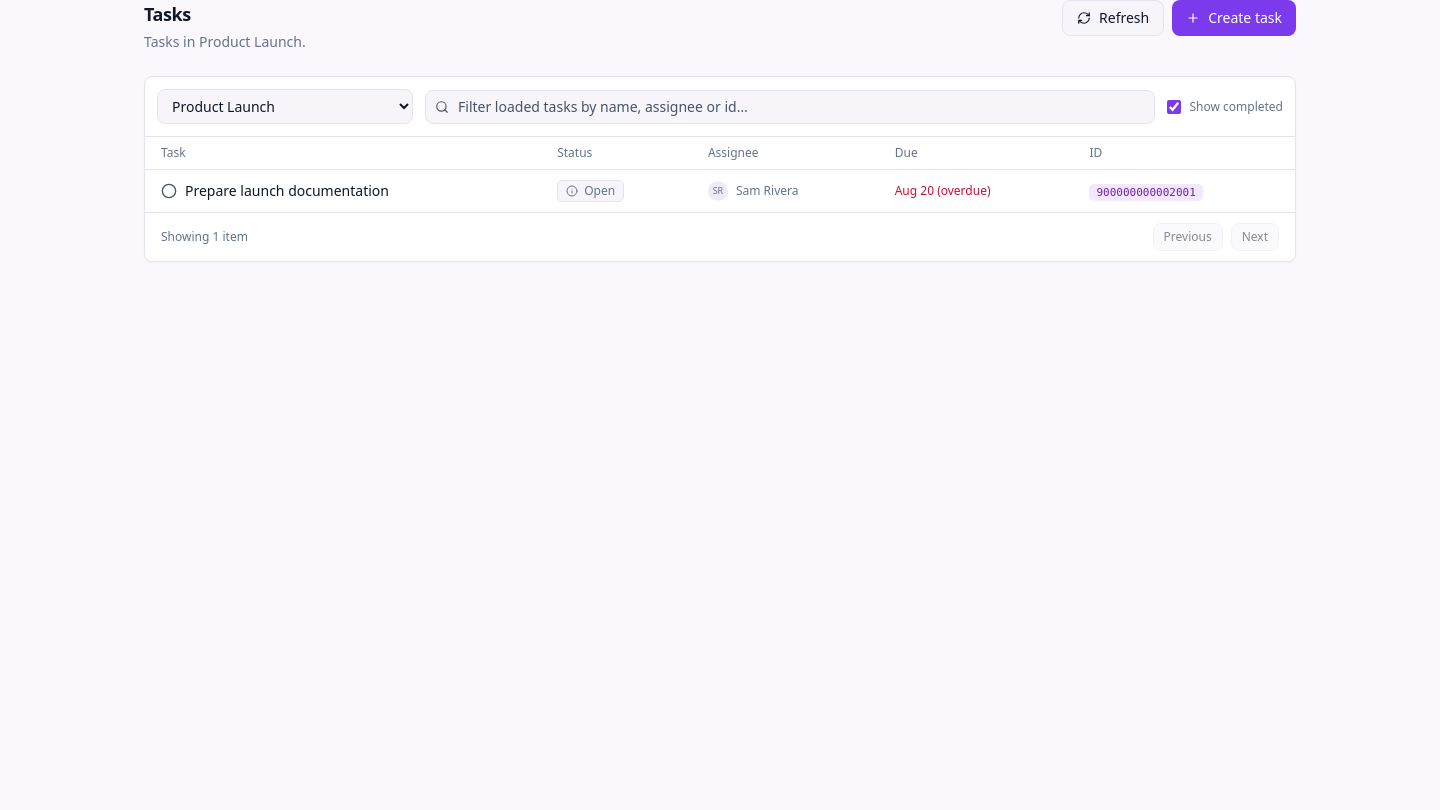
it: Tasks › opens the task drawer with details and a comment composer
Click the button "Prepare launch documentation" at (275, 191), box x1=161 y1=181 x2=389 y2=201
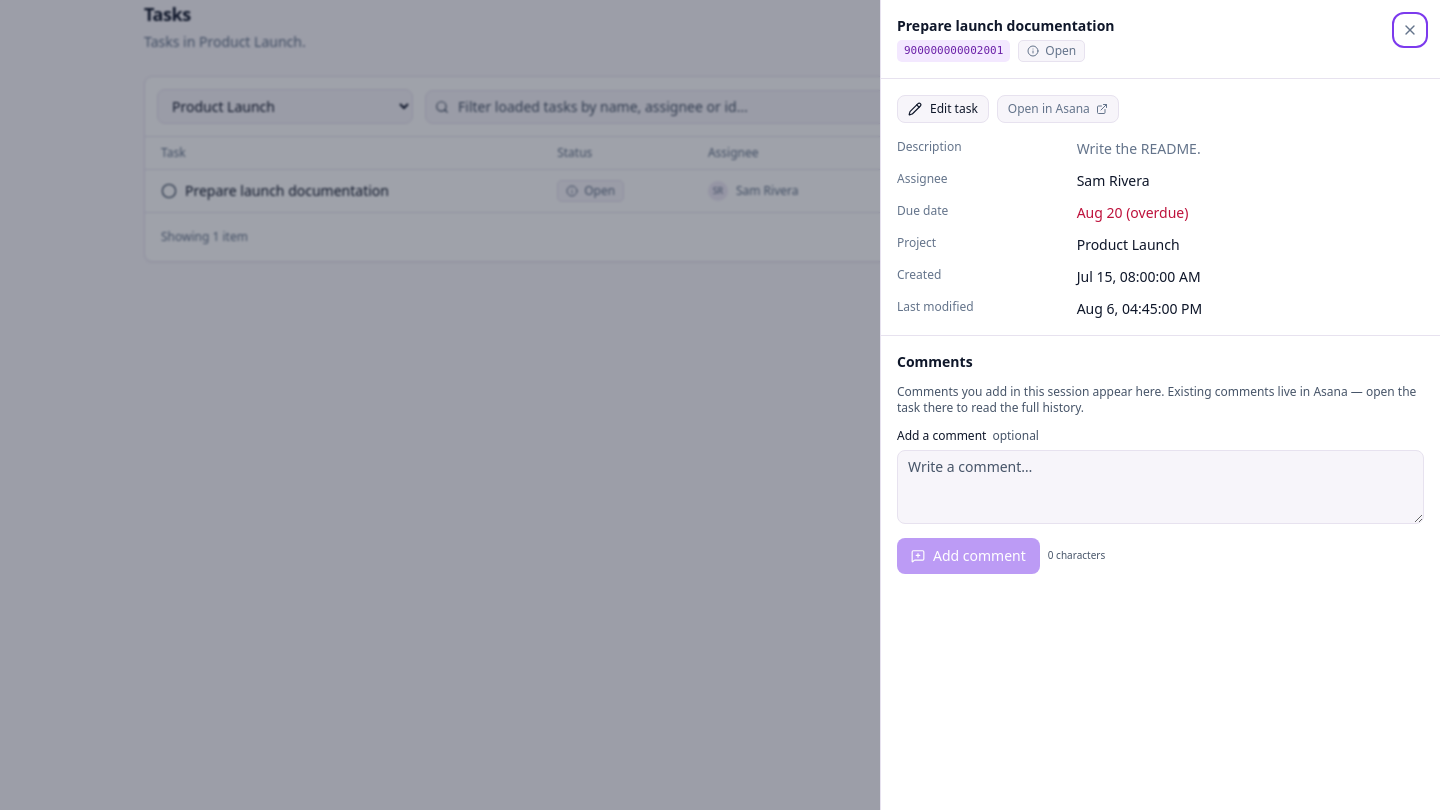
Expected: the heading "Comments" is shown, x1=897 y1=352 x2=973 y2=371
Expected: the text box labelled "Add a comment" is shown, x1=897 y1=450 x2=1424 y2=524
